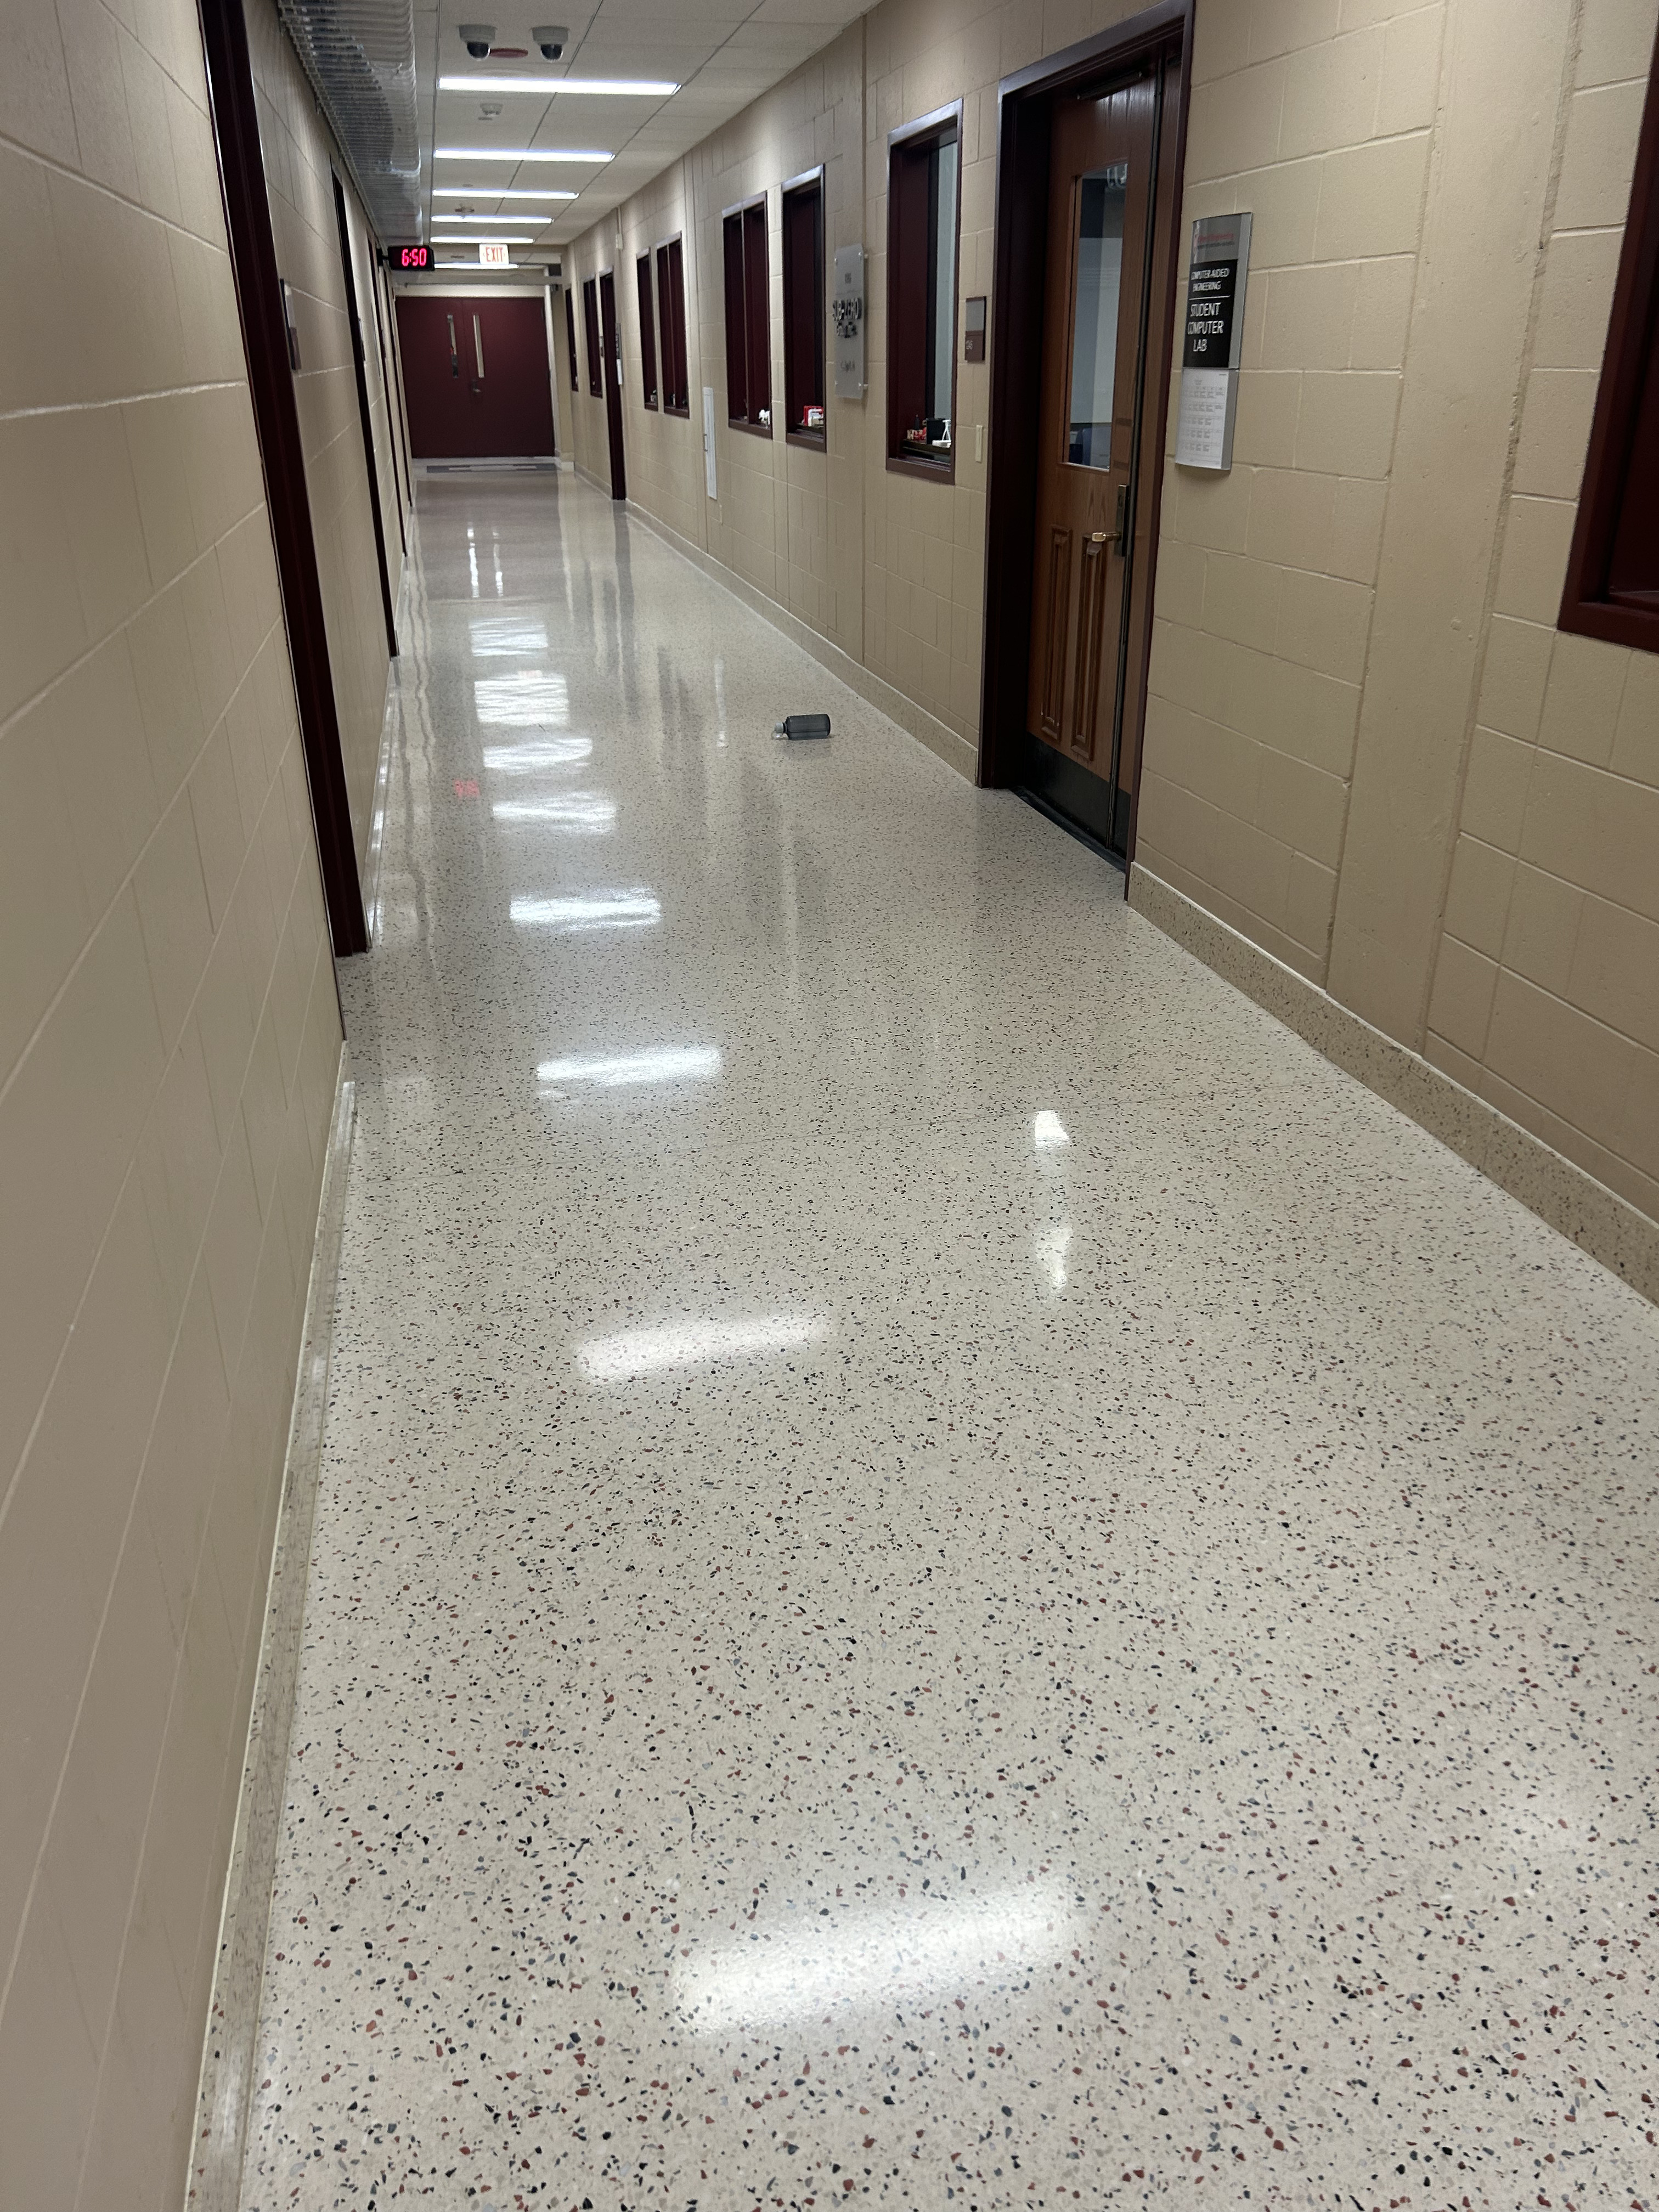bottle: (775, 700, 835, 745)
